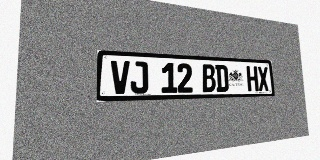1: (161, 62, 177, 93)
2: (177, 63, 193, 93)
B: (201, 64, 216, 92)
D: (215, 65, 229, 92)
H: (246, 66, 259, 91)
J: (130, 61, 148, 94)
V: (111, 60, 130, 94)
X: (257, 66, 269, 91)
